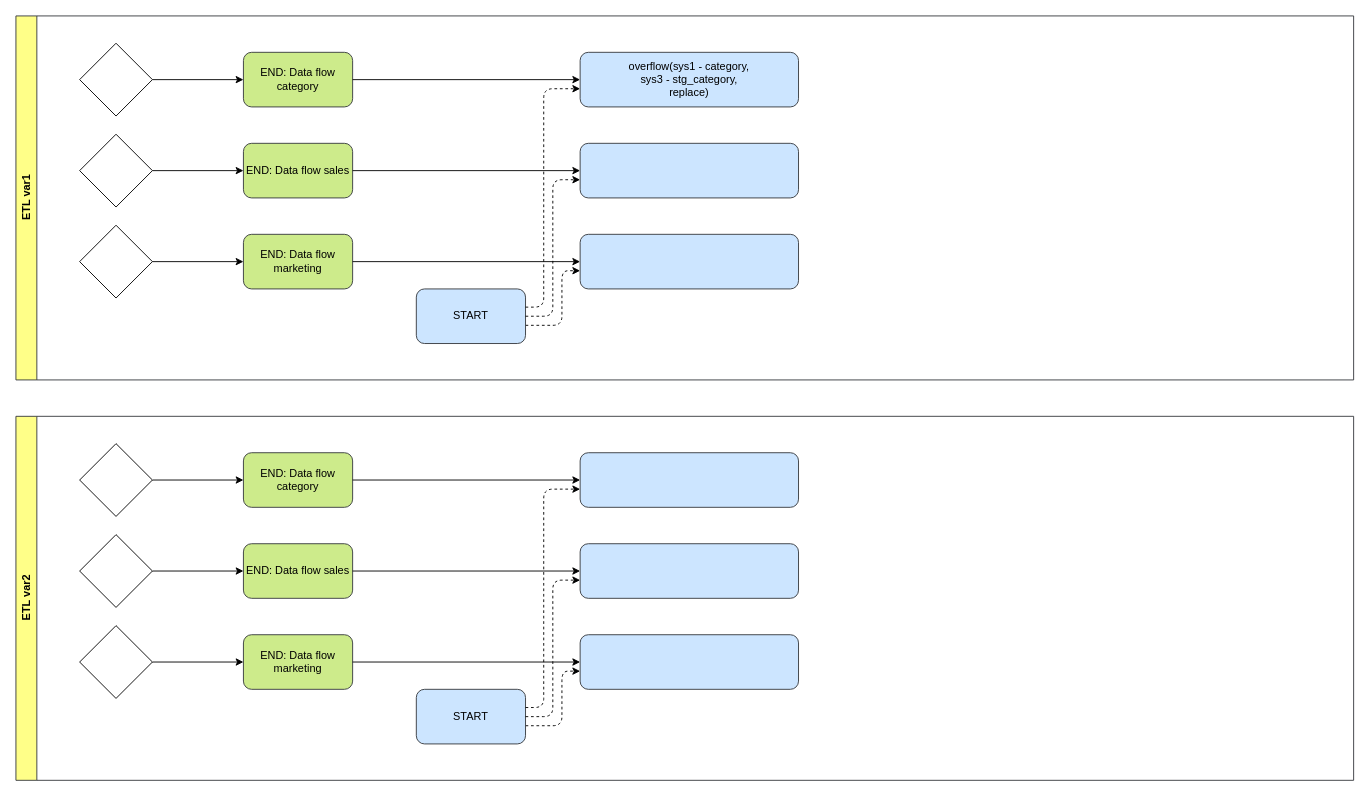
The diagram is 1370 pixels wide and 796 high, and some of its shapes have lost their labels. The shapes that lost their labels are listed below. From the top down, each one's centre as x and y in pixels, then its label:
At [689,170]: "overflow( sys1 - sales, sys3 - stg_sales, append )".
At [689,261]: "overflow( sys2 - marketing, sys3 - stg_marketing, append )".
At [689,479]: "overflow( sys1 - category, sys3 - category, replace )".
At [689,570]: "truncate + overflow( sys1 - sales, sys3 - sales, append )".
At [689,661]: "truncate + overflow( sys2 - marketing, sys3 - marketing, append )".
